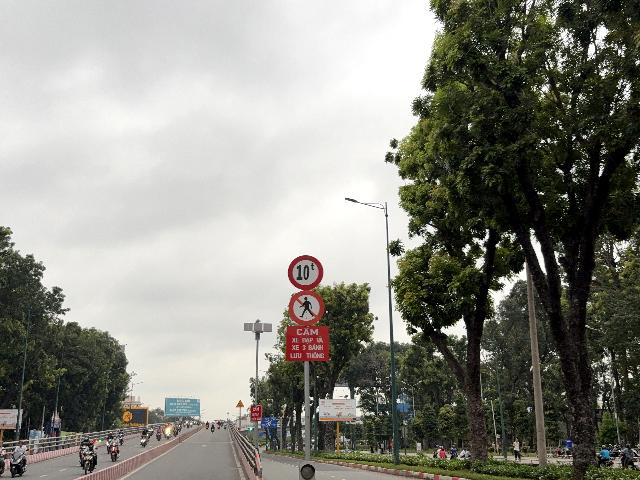cam-nguoi-di-bo: (288, 290, 324, 326)
han-che-trong-luong-xe: (288, 255, 323, 290)
